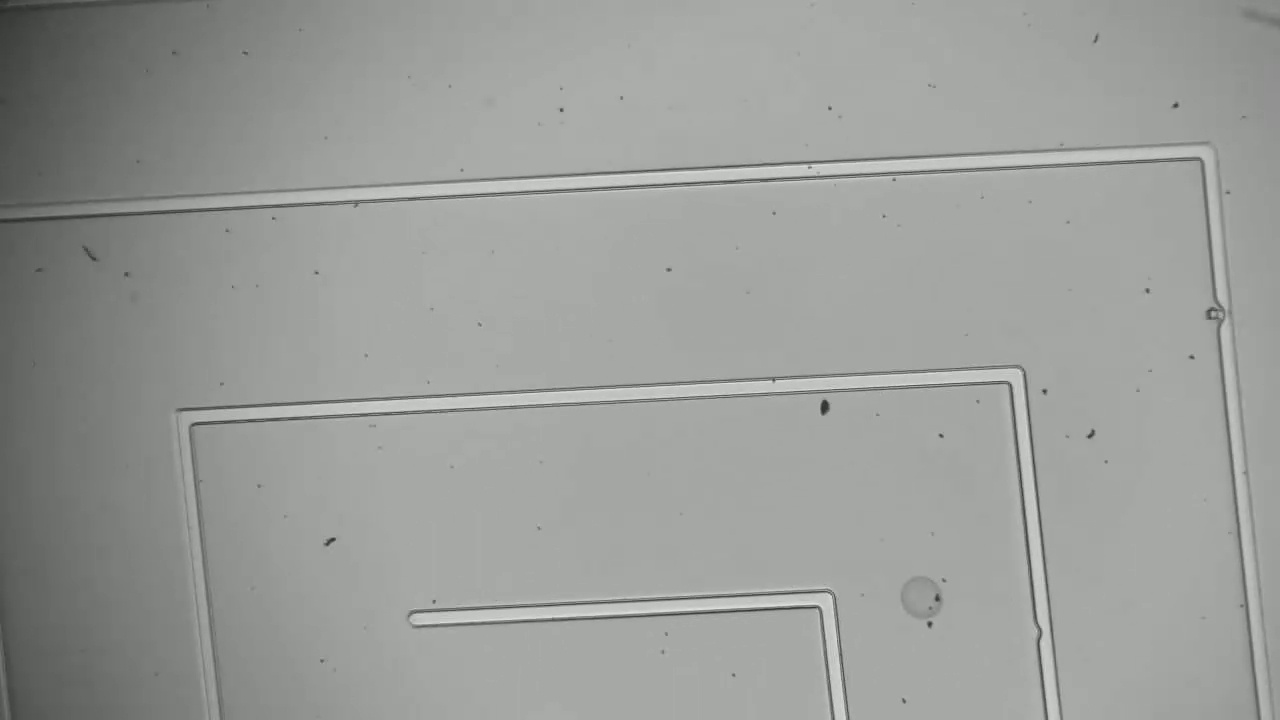edge_bite: (1196, 294, 1238, 338), (1025, 609, 1064, 650)
